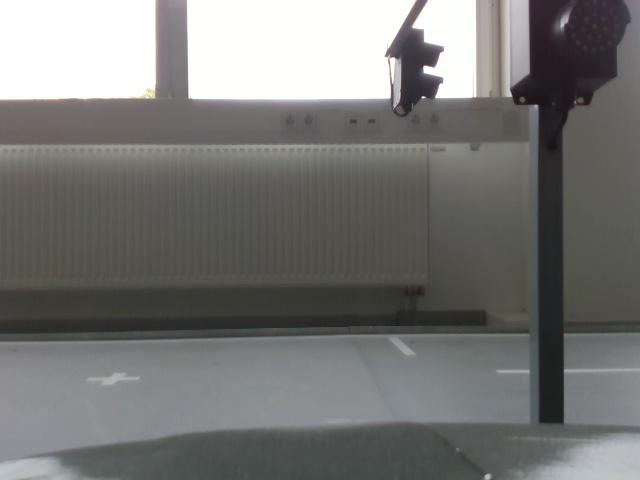traffic light: (523, 1, 636, 107), (383, 30, 443, 121)
